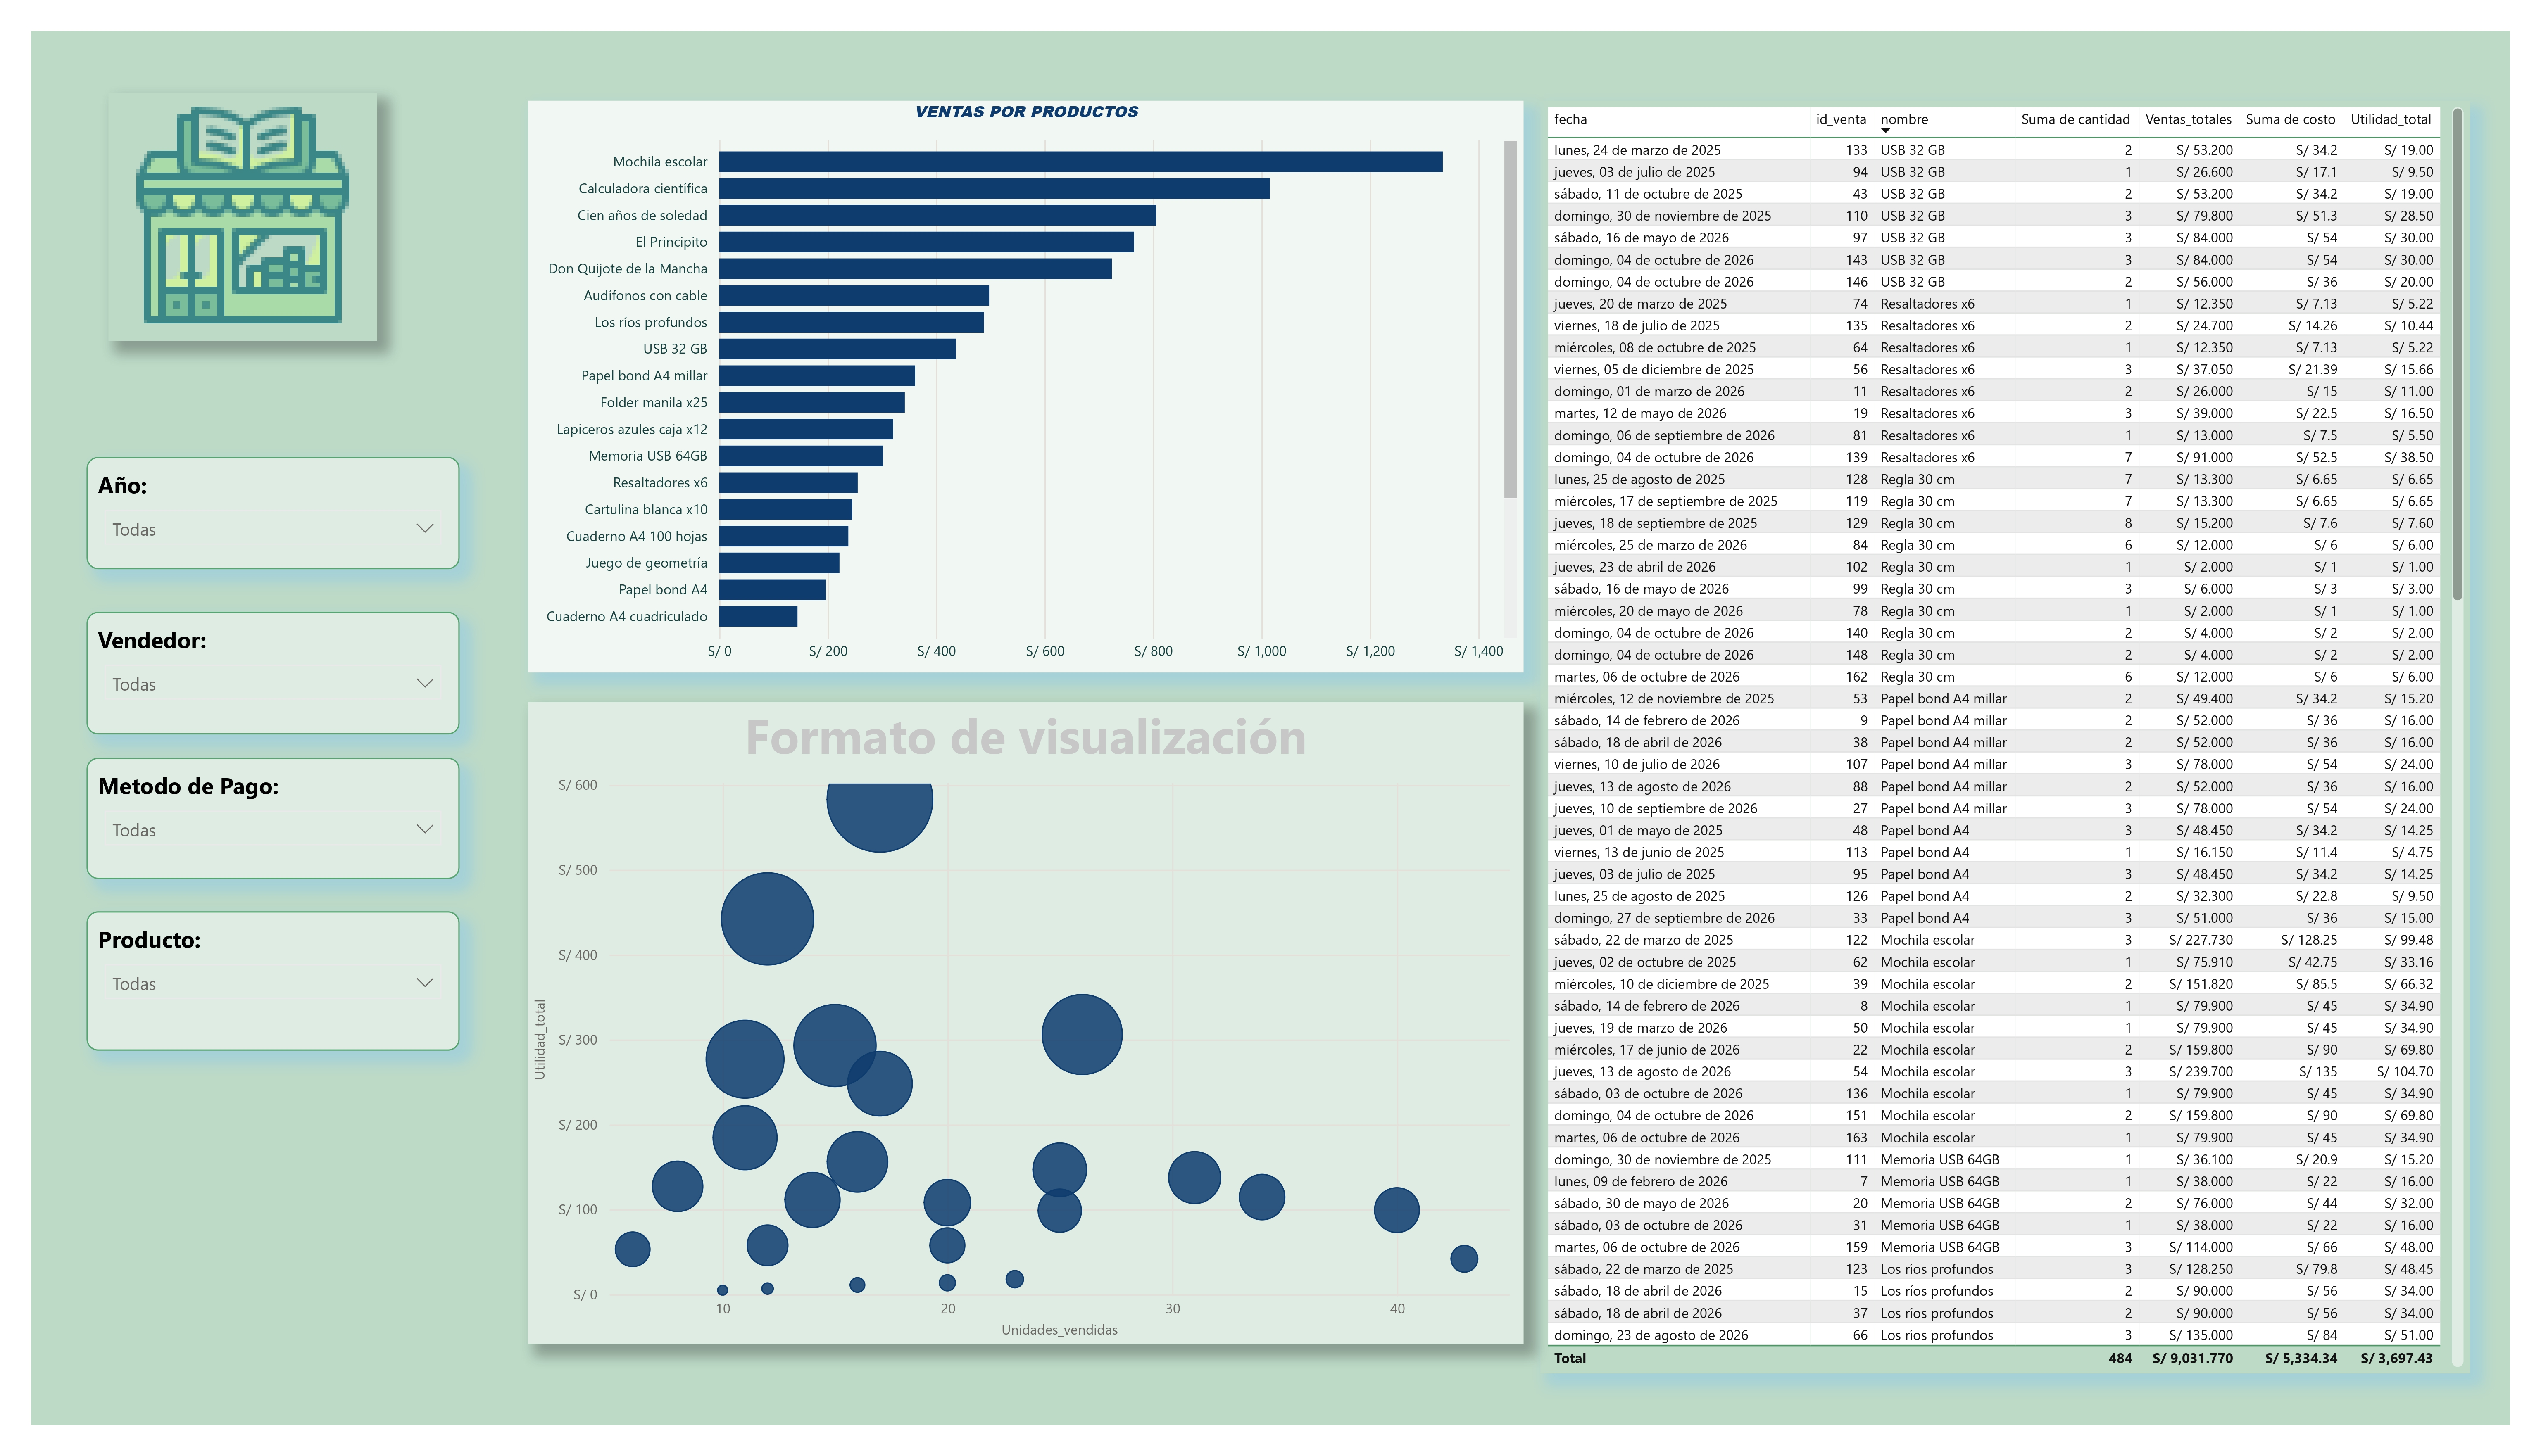

Layout of this report page (visuals, bound fields, positions):
{"tool":"powerbi","page":{"name":"VENTAS","canvas":[1920,1080],"ordinal":2},"visuals":[{"type":"clusteredBarChart","title":"VENTAS POR PRODUCTOS","fields":{"Category":["dim_producto.nombre"],"Y":["fac_ventas.Ventas_totales"]},"box":[385.5,54.1,770.9,443],"z":0},{"type":"tableEx","fields":{"Values":["dim_tiempo.fecha","fac_ventas.id_venta","dim_producto.nombre","Sum(fac_ventas.cantidad)","fac_ventas.Ventas_totales","Sum(fac_ventas.costo)","fac_ventas.Utilidad_total"]},"box":[1168.6,54.1,720.4,985.5],"z":1000},{"type":"image","box":[60,48.3,208.3,191.7],"z":2000},{"type":"slicer","fields":{"Values":["dim_tiempo.anio"]},"box":[43.3,330,288.3,86.7],"z":3000},{"type":"slicer","fields":{"Values":["dim_producto.nombre"]},"box":[43.3,681.7,288.3,108.3],"z":4000},{"type":"slicer","fields":{"Values":["dim_vendedor.nombre"]},"box":[43.3,450,288.3,95],"z":5000},{"type":"slicer","fields":{"Values":["dim_metodoPago.nombreMetodo"]},"box":[43.3,563.3,288.3,93.3],"z":6000},{"type":"scatterChart","title":"Formato de visualización","fields":{"Category":["fac_ventas.id_producto"],"Size":["fac_ventas.Ventas_totales"],"X":["fac_ventas.Unidades_vendidas"],"Y":["fac_ventas.Utilidad_total"]},"box":[385.5,519.8,770.9,497.1],"z":7000}]}

Visuals, with their boxes on the page's 1920x1080 design canvas (x1, y1, x2, y2). These are canvas units, not pixel positions in the 2541x1456 screenshot, which may show the page scaled, cropped or inside an application window:
"VENTAS POR PRODUCTOS" clusteredBarChart: [386, 54, 1156, 497]
tableEx - dim_tiempo.fecha x fac_ventas.id_venta: [1169, 54, 1889, 1040]
image: [60, 48, 268, 240]
slicer - dim_tiempo.anio: [43, 330, 332, 417]
slicer - dim_producto.nombre: [43, 682, 332, 790]
slicer - dim_vendedor.nombre: [43, 450, 332, 545]
slicer - dim_metodoPago.nombreMetodo: [43, 563, 332, 657]
"Formato de visualización" scatterChart: [386, 520, 1156, 1017]
